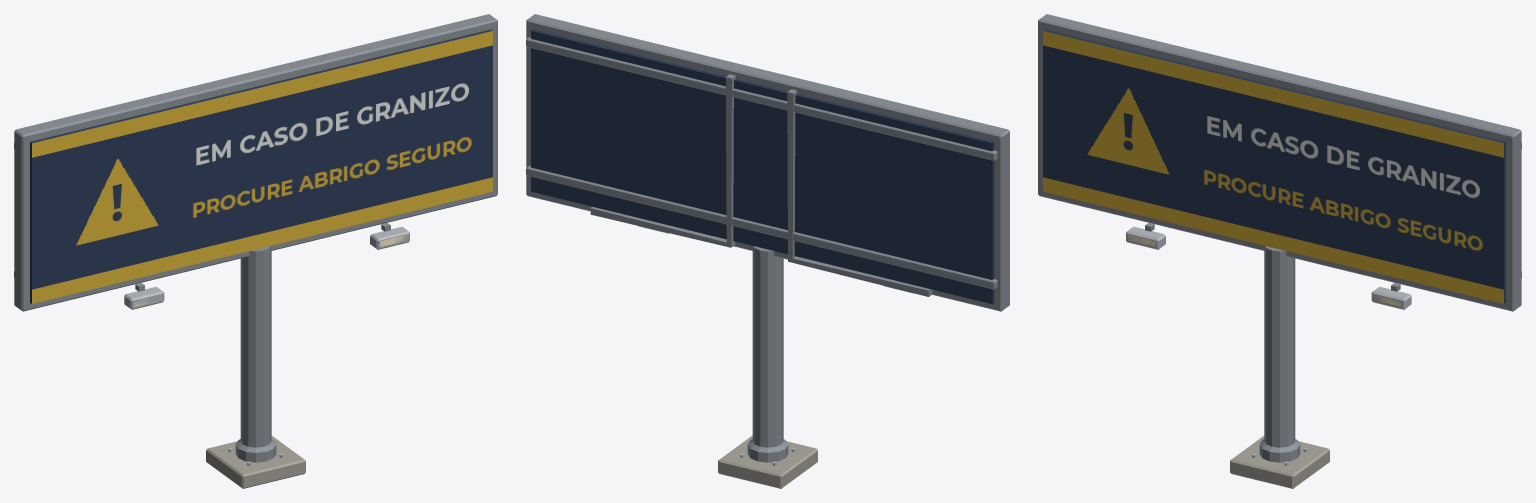
Rendered from Placa.fbx.
The picture shows the model from 3 angles, left to right: view 1: azimuth 30°, elevation 25°; view 2: azimuth 150°, elevation 25°; view 3: azimuth 330°, elevation 25°; orthographic projection.
Parts seen in each view (by area): view 1: Placa, PostePlaca; view 2: Placa, PostePlaca; view 3: Placa, PostePlaca.
Part boxes in pixels (bbox=[...]): Placa: bbox=[14, 14, 497, 311]; PostePlaca: bbox=[206, 246, 305, 488]; Placa: bbox=[526, 14, 1009, 311]; PostePlaca: bbox=[718, 246, 817, 488]; Placa: bbox=[1038, 14, 1521, 311]; PostePlaca: bbox=[1230, 246, 1329, 488].
Bounding box in the file's own units: 6.2 × 4.9 × 0.84.
1 material, 1 textured.
